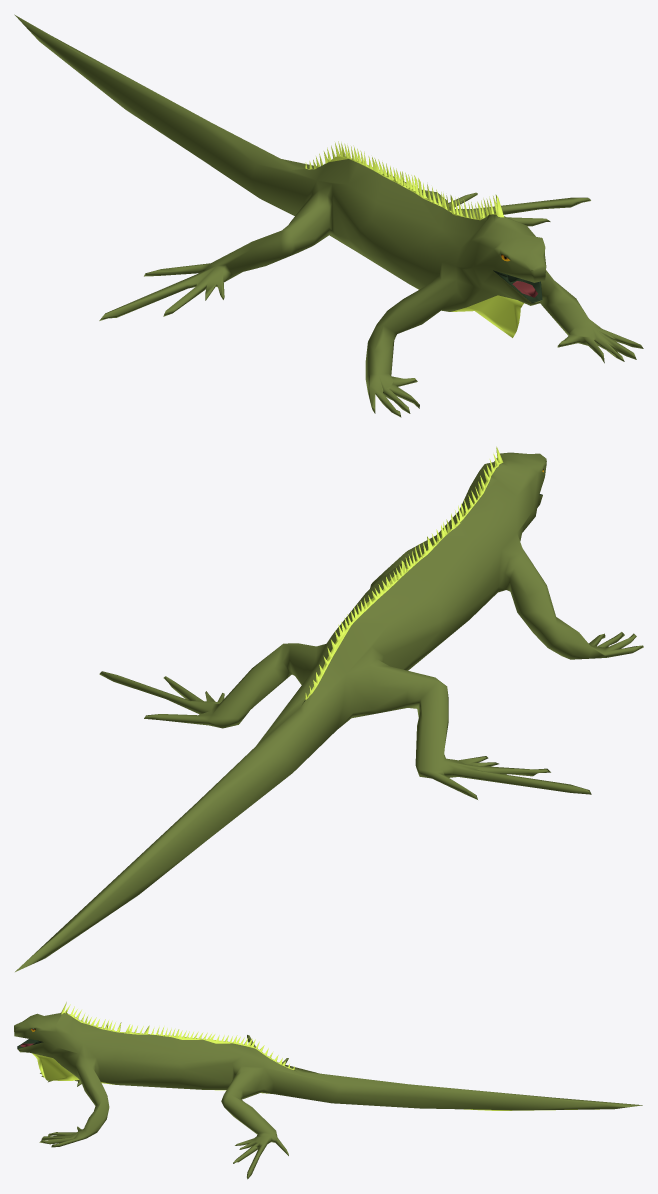
File: Iguana.glb
3 renders of one model, top to bottom at view 1: azimuth 30°, elevation 25°; view 2: azimuth 150°, elevation 25°; view 3: azimuth 270°, elevation 25°, orthographic. The views are drawn at different scales.
Visible parts, largest first — view 1: Iguana; view 2: Iguana; view 3: Iguana.
Boxes of the visible parts, bbox=[...] form: Iguana: bbox=[14, 14, 643, 417]; Iguana: bbox=[15, 446, 643, 971]; Iguana: bbox=[14, 1002, 642, 1179].
Size of what is drawn, in the model's own units: 1.4 by 0.4959 by 2.58.
1 material, 1 textured.
